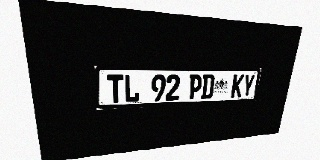2: (165, 74, 180, 101)
9: (151, 74, 166, 101)
D: (200, 74, 215, 99)
K: (230, 74, 244, 98)
L: (124, 75, 140, 103)
P: (188, 74, 202, 100)
T: (107, 75, 124, 103)
Y: (241, 74, 255, 97)
